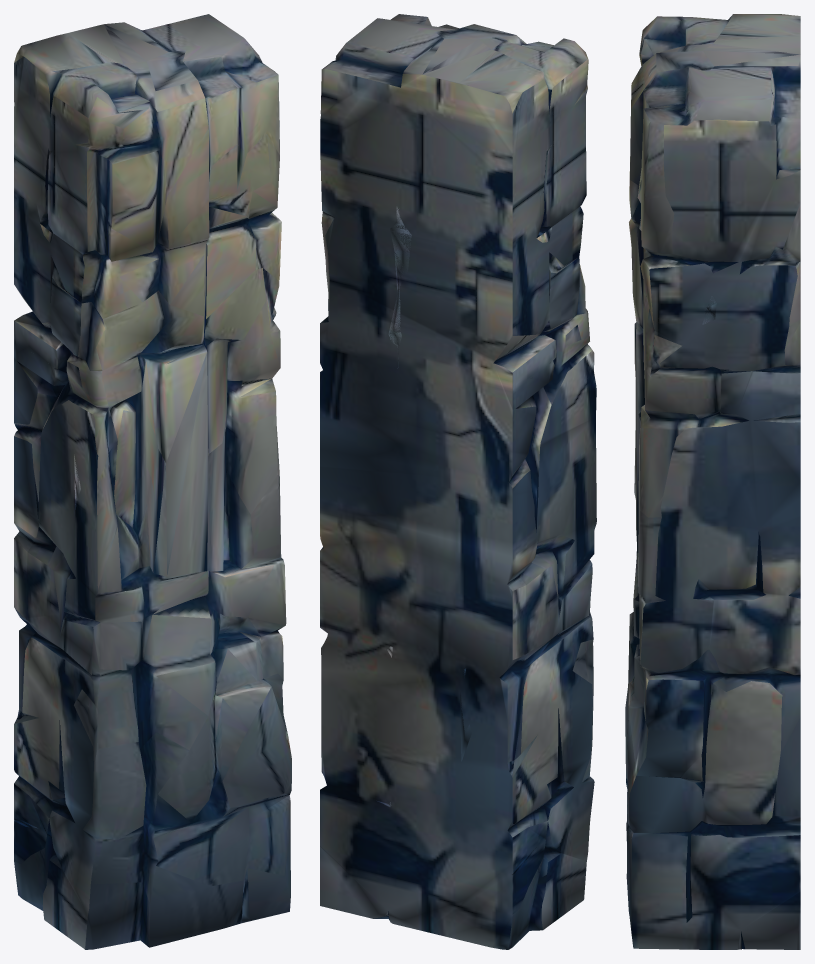
Rendered from cliff_tall.glb.
3 renders of one model, left to right at view 1: azimuth 30°, elevation 25°; view 2: azimuth 150°, elevation 25°; view 3: azimuth 270°, elevation 25°, orthographic.
Visible parts, largest first — view 1: CLIFF_TALL; view 2: CLIFF_TALL; view 3: CLIFF_TALL.
Boxes of the visible parts, <box> form: CLIFF_TALL: <box>14,14,291,949</box>; CLIFF_TALL: <box>320,14,596,949</box>; CLIFF_TALL: <box>625,14,800,949</box>.
Bounding box in the file's own units: 1.08 × 4.6 × 0.8644.
1 material, 1 textured.
